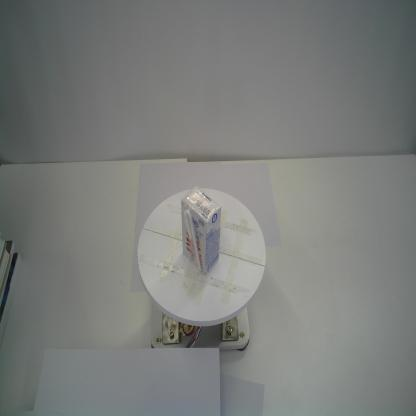Milk: (181, 185, 222, 275)
